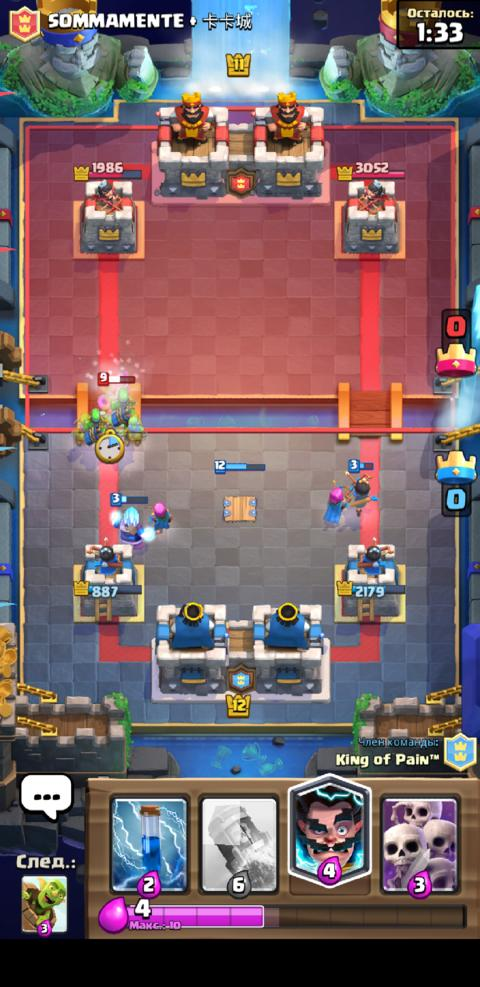ally_archer: (321, 479, 349, 524), (147, 501, 172, 534)
ally_goblin: (120, 416, 148, 446)
ally_ice_wizard: (107, 491, 157, 551)
ally_princess: (343, 457, 379, 516)
ally_spear_goblin: (81, 406, 109, 445), (108, 387, 135, 425)
ally_tesla_hidden: (211, 456, 266, 523)
